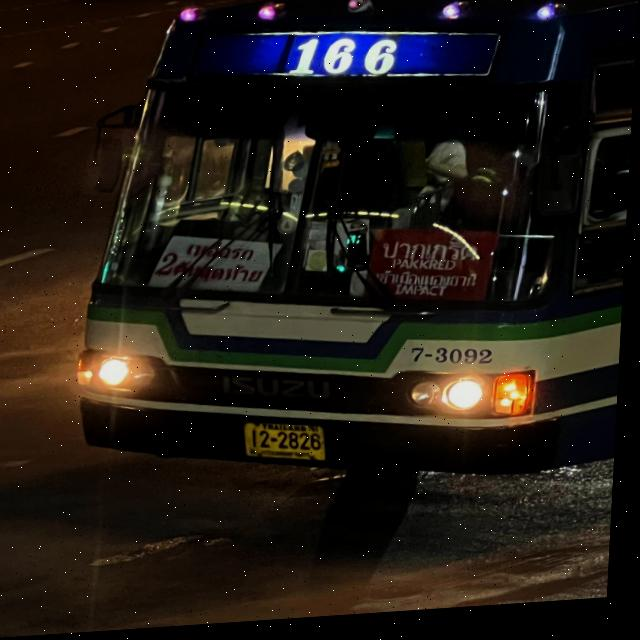BMTA-bus: (66, 0, 640, 515)
Bus-Line-Number: (276, 32, 412, 89)
Destination-Sign-Extra-Bus: (365, 230, 499, 316)
